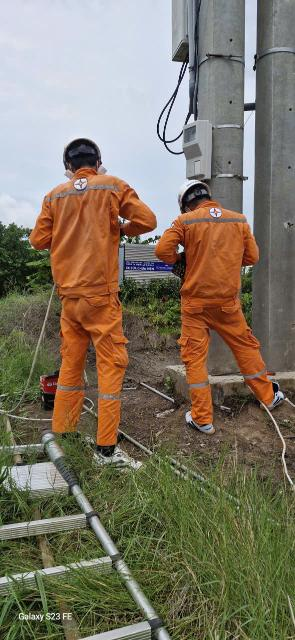helmet: (57, 131, 118, 175), (161, 176, 223, 218)
shoes: (78, 440, 147, 478), (248, 377, 295, 417), (182, 393, 218, 440), (56, 429, 90, 454)
